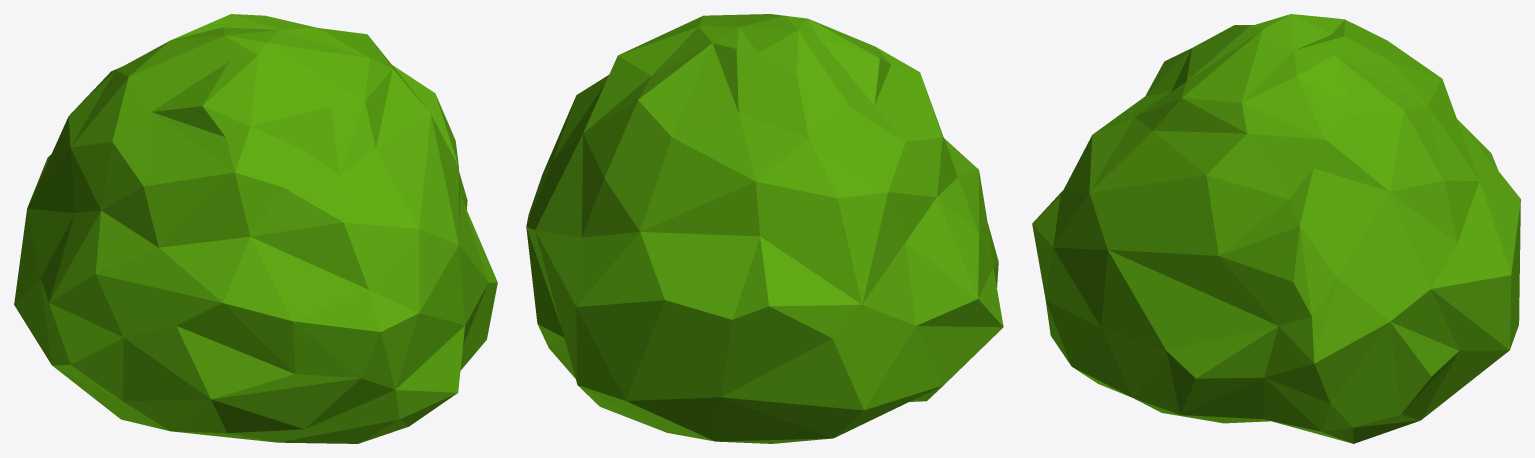
File: ShrubGroundC.fbx
3 renders of one model, left to right at view 1: azimuth 30°, elevation 25°; view 2: azimuth 150°, elevation 25°; view 3: azimuth 270°, elevation 25°, orthographic. The views are drawn at different scales.
Visible parts, largest first — view 1: ShrubGroundC_geo; view 2: ShrubGroundC_geo; view 3: ShrubGroundC_geo.
Boxes of the visible parts, x1,y1,x2,y2 form: ShrubGroundC_geo: (14,14,497,443); ShrubGroundC_geo: (526,14,1003,443); ShrubGroundC_geo: (1032,14,1520,443).
Bounding box in the file's own units: 371 × 299 × 373.
